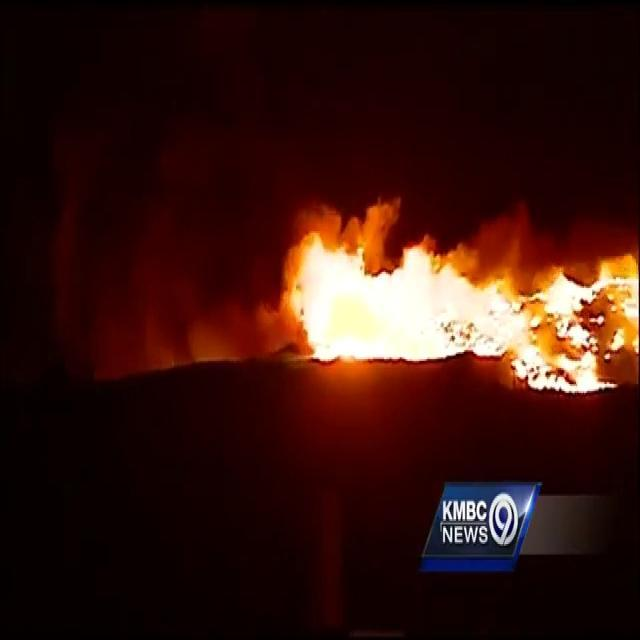Fire: (268, 185, 640, 384)
Smoke: (43, 48, 263, 374)
